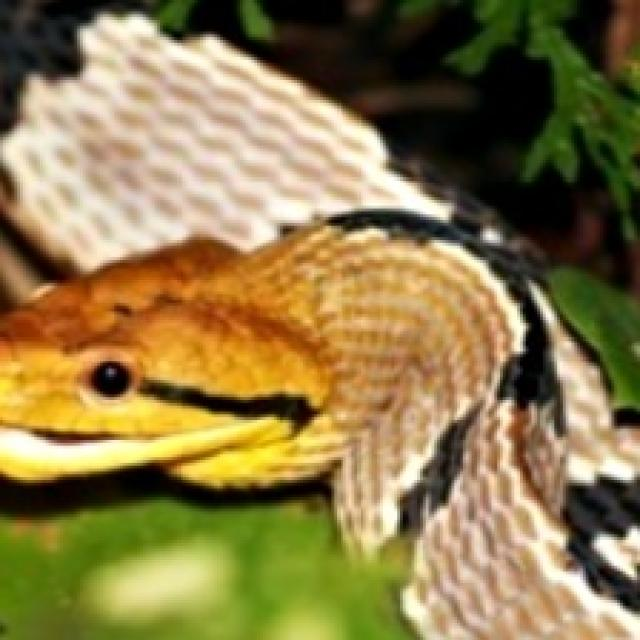dog-toothed cat snake: (0, 14, 637, 637), (0, 223, 637, 637)
